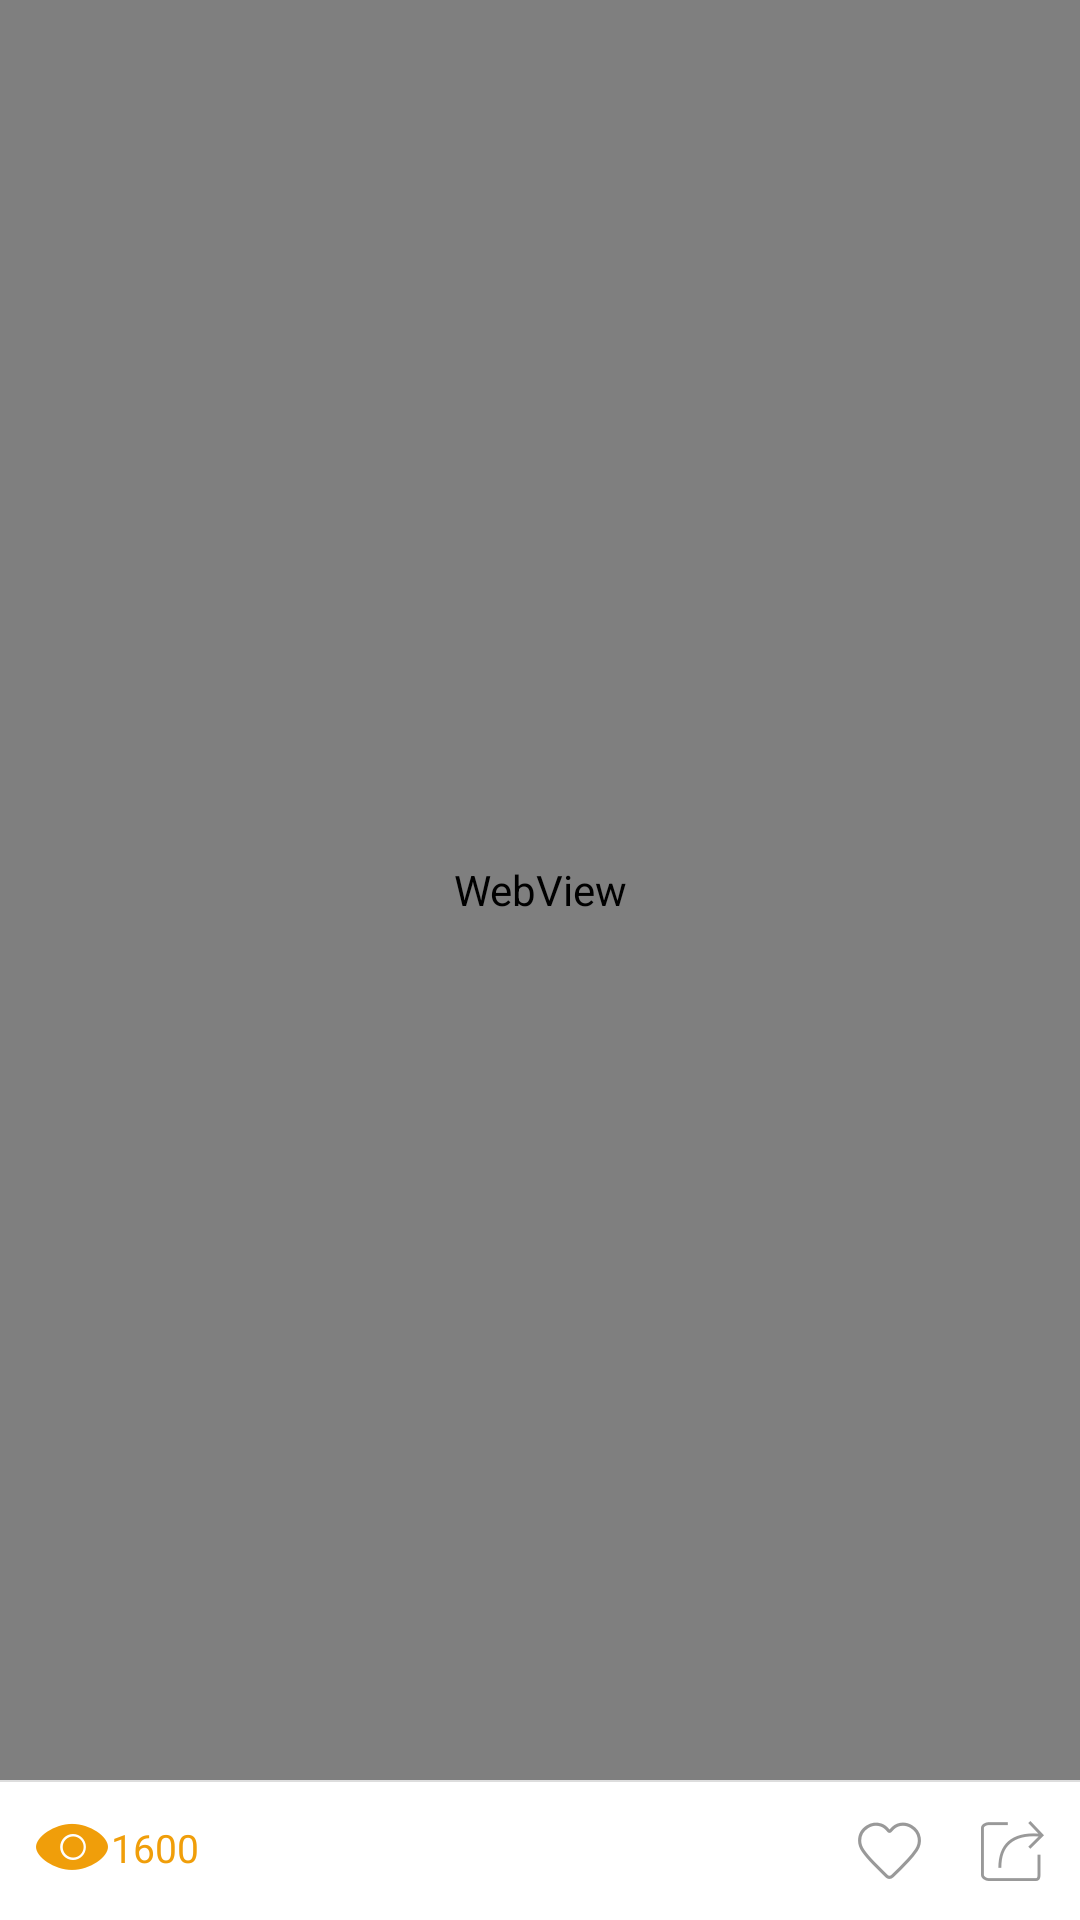

Icons on this 1080×1920 Android screen, each with the point to tap as point (x, y):
nocollect: point (889, 1850)
readcount: point (72, 1847)
share: point (1012, 1851)
